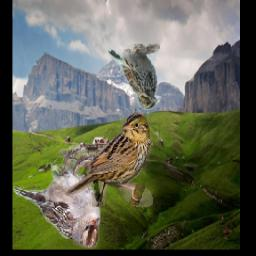Sparrow: (13, 146, 104, 250), (66, 113, 152, 208), (108, 44, 160, 110)
